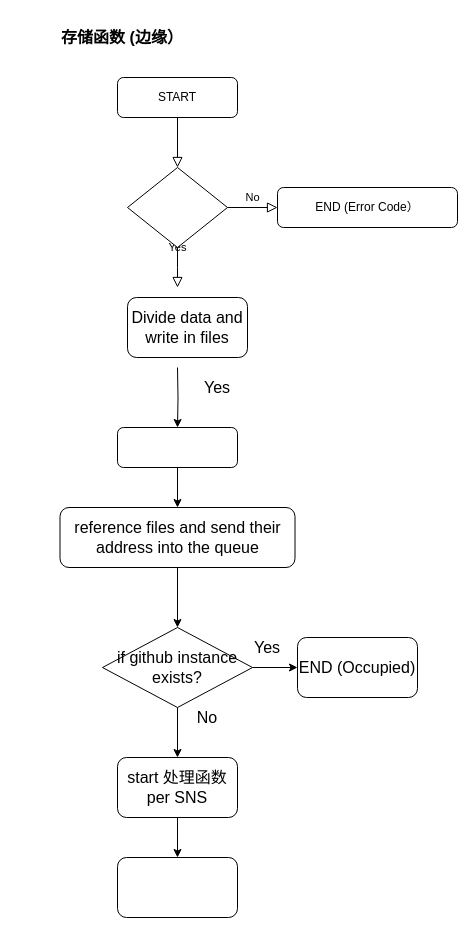
Some shapes in this 475 by 935 pixel diagram are drawn without their labels. The centre of each missing label's shape, as x and y in pixels:
"Check input" goes at point 177,207.
"END" goes at point 177,887.
"Store files in S3" goes at point 177,447.
